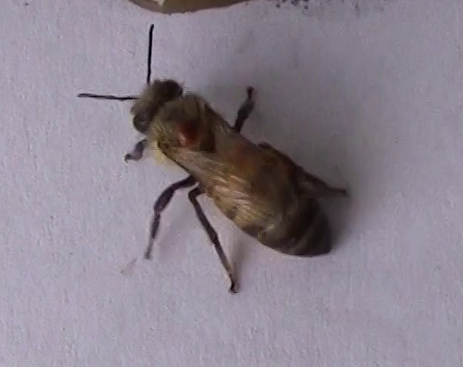Varroa destructor: (173, 117, 202, 146)
